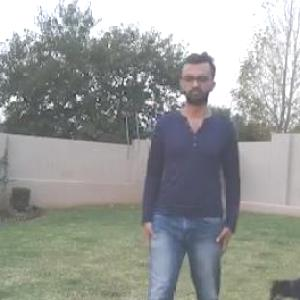follow: (142, 49, 243, 299)
